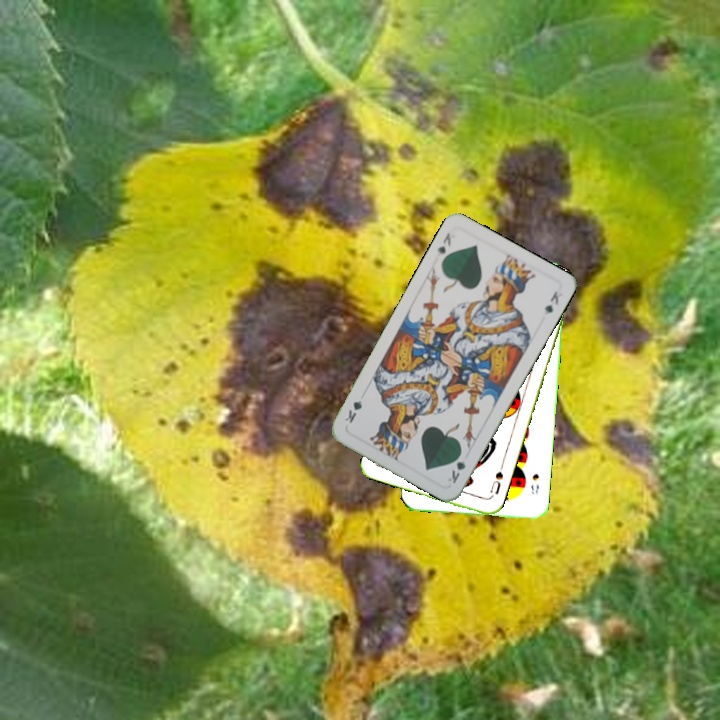GK: (443, 447, 468, 486), (433, 229, 458, 256)
S8: (527, 470, 542, 497)
SU: (486, 461, 506, 497)
